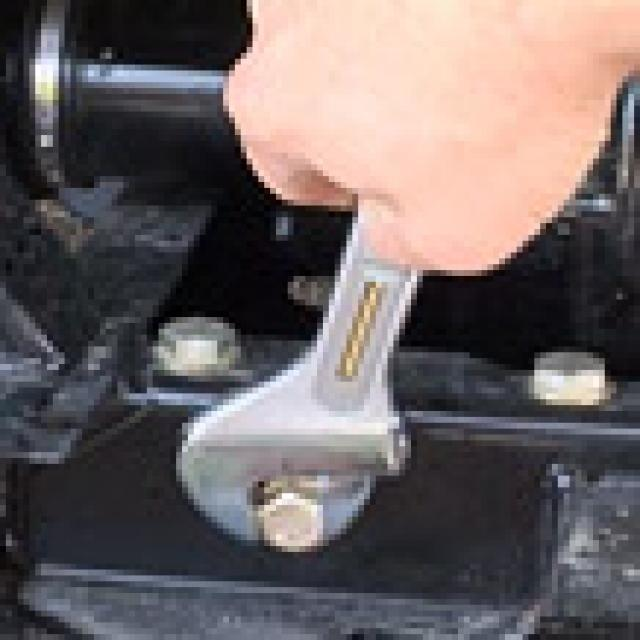wrench: (173, 186, 420, 554)
